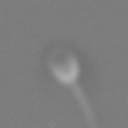normal: (68, 82, 128, 128)
